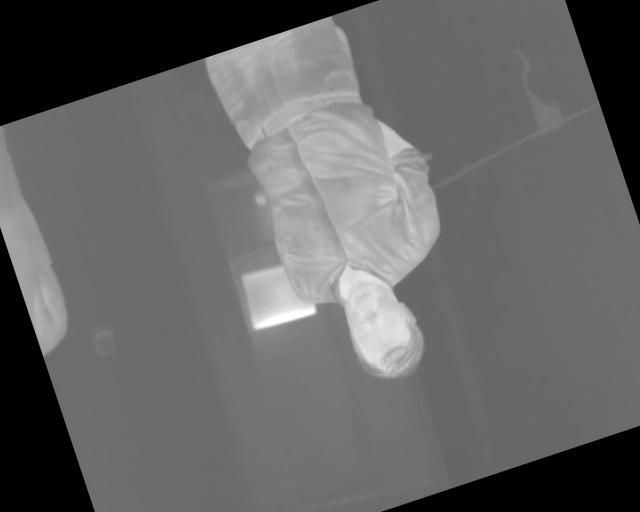face: (331, 266, 434, 390)
